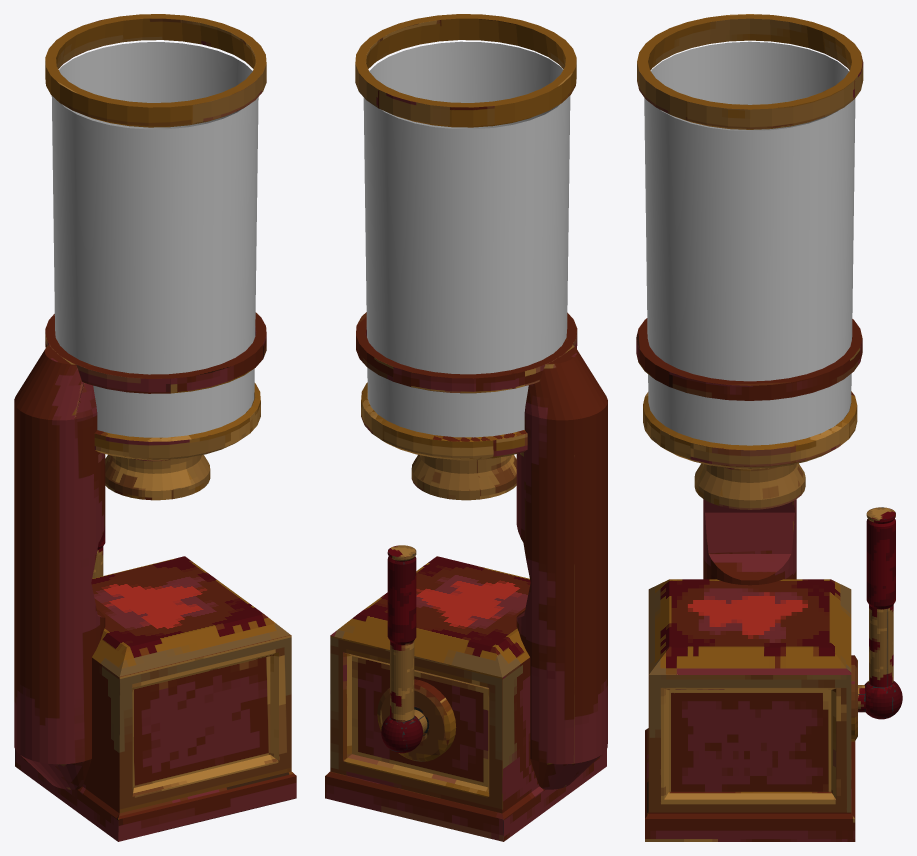
The model's file is HeartMachine.fbx.
3 renders of one model, left to right at view 1: azimuth 30°, elevation 25°; view 2: azimuth 150°, elevation 25°; view 3: azimuth 270°, elevation 25°, orthographic.
Visible parts, largest first — view 1: HeartMachineBody, HeartMachineGlass; view 2: HeartMachineBody, HeartMachineGlass, HeartMachineStick; view 3: HeartMachineBody, HeartMachineGlass, HeartMachineStick.
Part boxes in pixels (x1,y1,x2,y2): HeartMachineBody: (14,14,296,841); HeartMachineGlass: (51,42,258,437); HeartMachineBody: (325,14,607,841); HeartMachineGlass: (363,41,570,437); HeartMachineStick: (381,545,427,753); HeartMachineBody: (636,14,863,841); HeartMachineGlass: (644,41,855,445); HeartMachineStick: (858,507,902,719).
Bounding box in the file's own units: 269 × 801 × 263.
